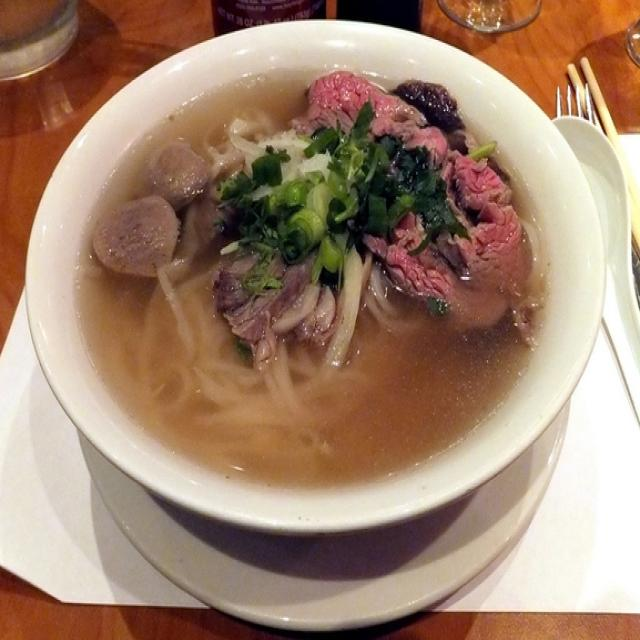面条主食: (20, 10, 628, 608)
